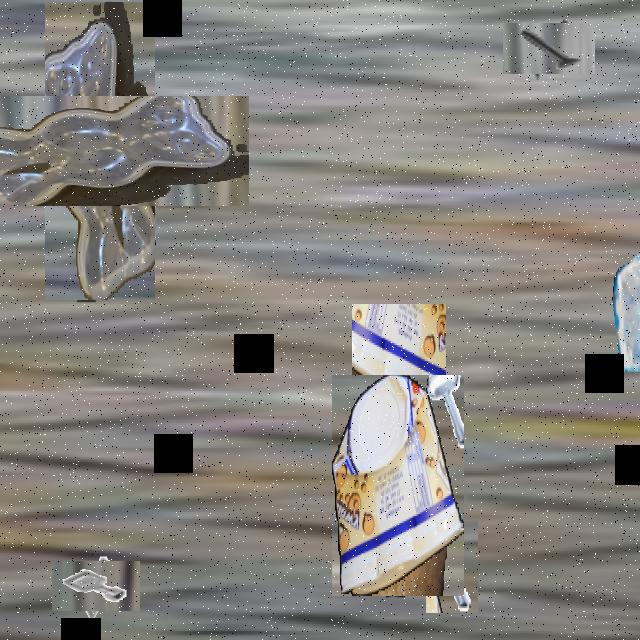glass: (612, 247, 640, 379)
metal: (513, 12, 585, 84), (61, 552, 131, 621), (426, 521, 478, 613)
plastic: (0, 48, 202, 253), (332, 375, 464, 596)
wood: (352, 304, 446, 489)
